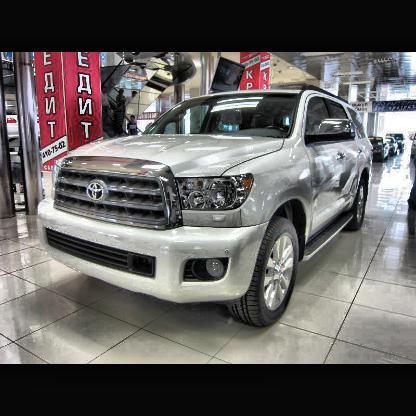Toyota Sequoia SUV 2012: (37, 85, 375, 332)
